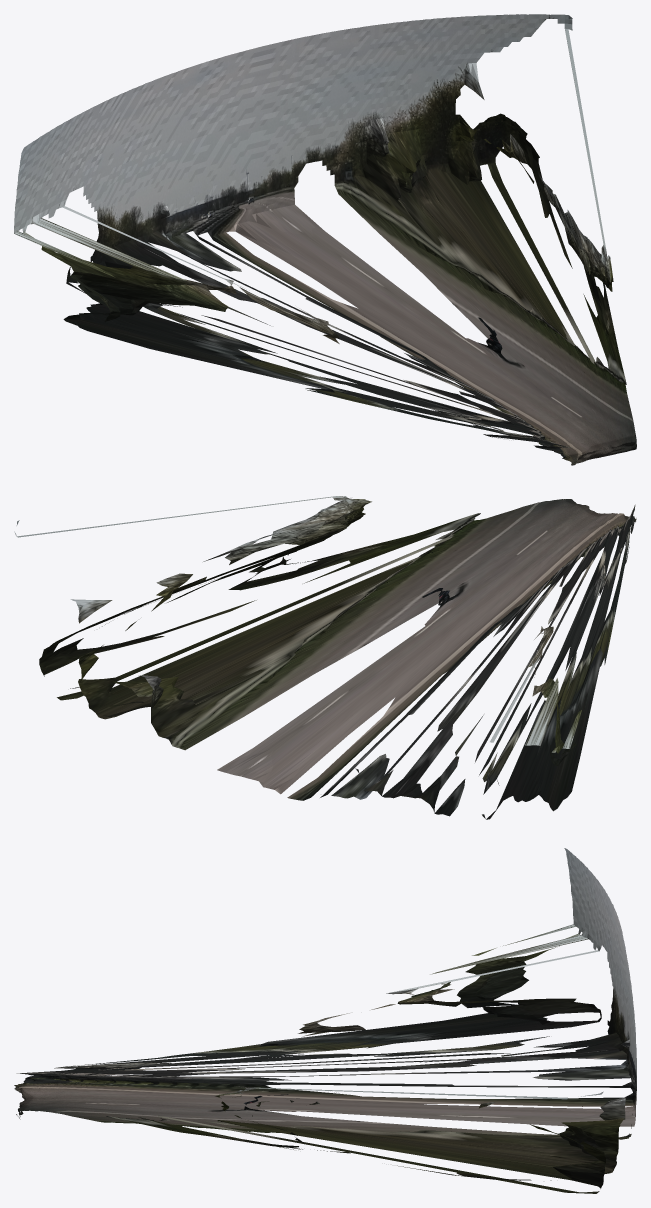
3 renders of one model, top to bottom at view 1: azimuth 30°, elevation 25°; view 2: azimuth 150°, elevation 25°; view 3: azimuth 270°, elevation 25°, orthographic. The views are drawn at different scales.
Parts seen in each view (by area): view 1: defaultobject; view 2: defaultobject; view 3: defaultobject.
Part boxes in pixels (left/top/right/bottom): defaultobject: left=14, top=14, right=636, bottom=465; defaultobject: left=14, top=496, right=636, bottom=819; defaultobject: left=14, top=848, right=636, bottom=1193.
Size of the model in its own units: 40.84 by 12.96 by 44.49.
Materials: 1 (1 with a texture image).
